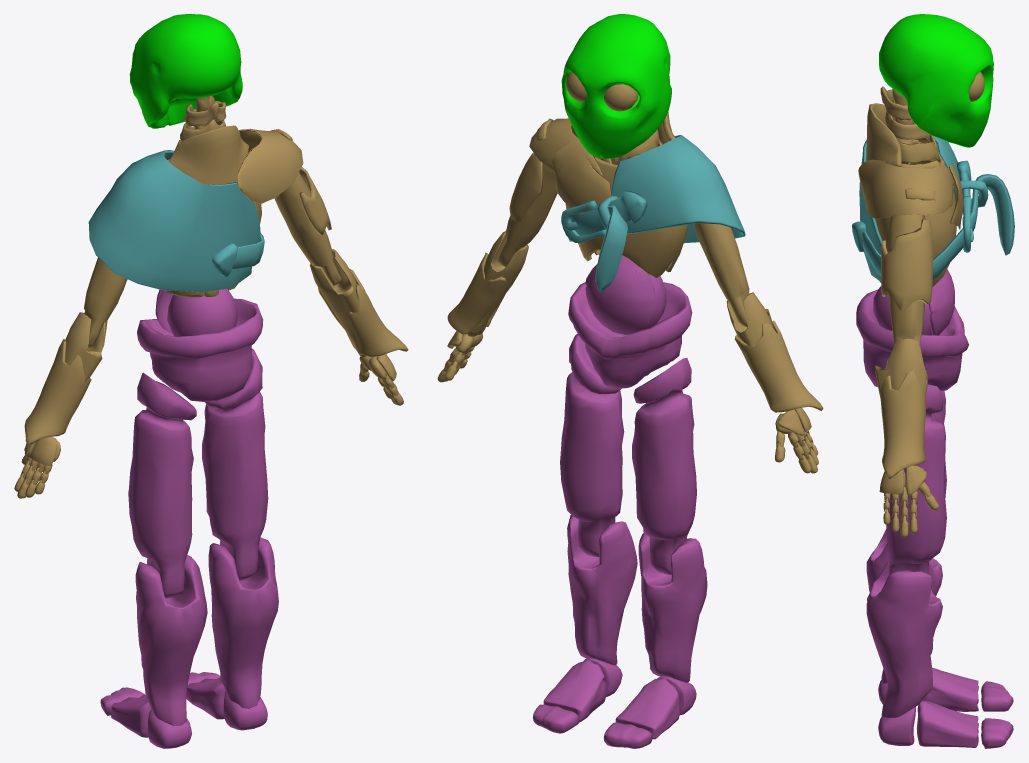
File: FBX_Eliott_Full_Body.fbx
3 renders of one model, left to right at view 1: azimuth 30°, elevation 25°; view 2: azimuth 150°, elevation 25°; view 3: azimuth 270°, elevation 25°, orthographic. The views are drawn at different scales.
Visible parts, largest first — view 1: Eliott_Veste_LD, Eliott_Cuisse_Droit_LD2, Eliott_Cuisse_Droit_LD, Eliott_Tete_LD, Eliott_Jambe_Droit_LD2, Eliott_Jambe_Droit_LD, Eliott_Bassin_LD, Eliott_Plaque_Epaule_LD, Eliott_Protege_Avant_Bras_Droit_LD2, Eliott_Plaque_Cou_LD, Eliott_Rotation_Hanche_LD, Eliott_Bras_Droit_LD (+11 smaller); view 2: Eliott_Tete_LD, Eliott_Cuisse_Droit_LD2, Eliott_Cuisse_Droit_LD, Eliott_Veste_LD, Eliott_Jambe_Droit_LD2, Eliott_Jambe_Droit_LD, Eliott_Bassin_LD, Eliott_Ventre_LD, Eliott_Protege_Avant_Bras_Droit_LD2, Eliott_Torse_LD, Eliott_Bras_Droit_LD2, Eliott_Plaque_Torse_LD (+14 smaller); view 3: Eliott_Tete_LD, Eliott_Jambe_Droit_LD, Eliott_Cuisse_Droit_LD, Eliott_Bassin_LD, Eliott_Plaque_Epaule_LD, Eliott_Protege_Avant_Bras_Droit_LD, Eliott_Plaque_Biceps_Droit_LD, Eliott_Laniere_Ceinture_LD, Eliott_Pied_Droit_LD, Eliott_Bras_Droit_LD, Eliott_Pied_Droit_LD2, Eliott_Bras_Avant_Droit_LD (+22 smaller).
Boxes of the visible parts, box(x1,y1,x2,y2) form: Eliott_Veste_LD: box(88, 150, 260, 292); Eliott_Cuisse_Droit_LD2: box(128, 372, 196, 598); Eliott_Cuisse_Droit_LD: box(202, 348, 268, 580); Eliott_Tete_LD: box(129, 14, 242, 128); Eliott_Jambe_Droit_LD2: box(135, 555, 207, 725); Eliott_Jambe_Droit_LD: box(208, 537, 278, 708); Eliott_Bassin_LD: box(137, 298, 263, 401); Eliott_Plaque_Epaule_LD: box(237, 128, 303, 203); Eliott_Protege_Avant_Bras_Droit_LD2: box(24, 339, 91, 445); Eliott_Plaque_Cou_LD: box(168, 125, 248, 184); Eliott_Rotation_Hanche_LD: box(167, 288, 237, 336); Eliott_Bras_Droit_LD: box(274, 172, 341, 285); Eliott_Tete_LD: box(561, 14, 671, 158); Eliott_Cuisse_Droit_LD2: box(632, 358, 696, 574); Eliott_Cuisse_Droit_LD: box(560, 333, 624, 556); Eliott_Veste_LD: box(611, 135, 745, 243); Eliott_Jambe_Droit_LD2: box(638, 533, 707, 682); Eliott_Jambe_Droit_LD: box(567, 515, 637, 665); Eliott_Bassin_LD: box(568, 282, 692, 388); Eliott_Ventre_LD: box(585, 255, 655, 334); Eliott_Protege_Avant_Bras_Droit_LD2: box(734, 320, 823, 412); Eliott_Torse_LD: box(565, 156, 688, 277); Eliott_Bras_Droit_LD2: box(693, 223, 749, 326); Eliott_Plaque_Torse_LD: box(551, 141, 611, 212); Eliott_Tete_LD: box(879, 14, 993, 147); Eliott_Jambe_Droit_LD: box(866, 560, 942, 718); Eliott_Cuisse_Droit_LD: box(886, 384, 946, 573); Eliott_Bassin_LD: box(856, 289, 968, 390); Eliott_Plaque_Epaule_LD: box(858, 159, 953, 219); Eliott_Protege_Avant_Bras_Droit_LD: box(880, 370, 927, 479); Eliott_Plaque_Biceps_Droit_LD: box(881, 219, 933, 311); Eliott_Laniere_Ceinture_LD: box(862, 174, 1014, 279); Eliott_Pied_Droit_LD: box(916, 700, 978, 747); Eliott_Bras_Droit_LD: box(888, 214, 925, 345); Eliott_Pied_Droit_LD2: box(922, 667, 978, 711); Eliott_Bras_Avant_Droit_LD: box(875, 338, 926, 398).
Bounding box in the file's own units: 10.21 × 17.93 × 3.76.
